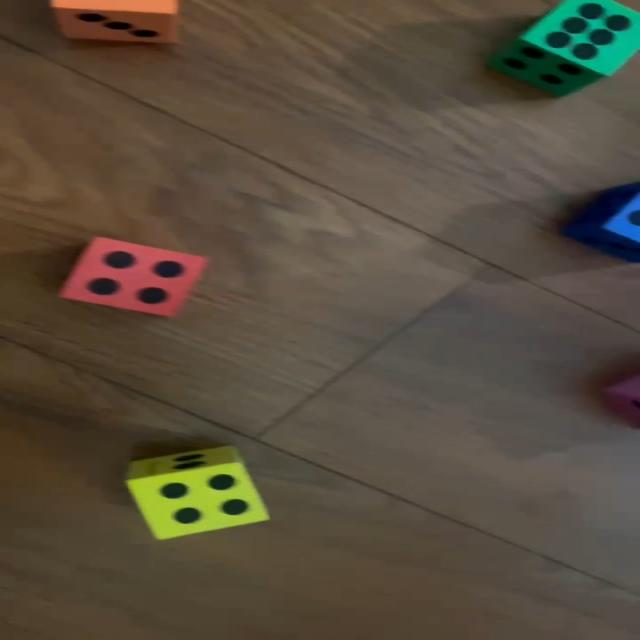blue_block: (566, 181, 640, 261)
red_block: (59, 238, 211, 316)
